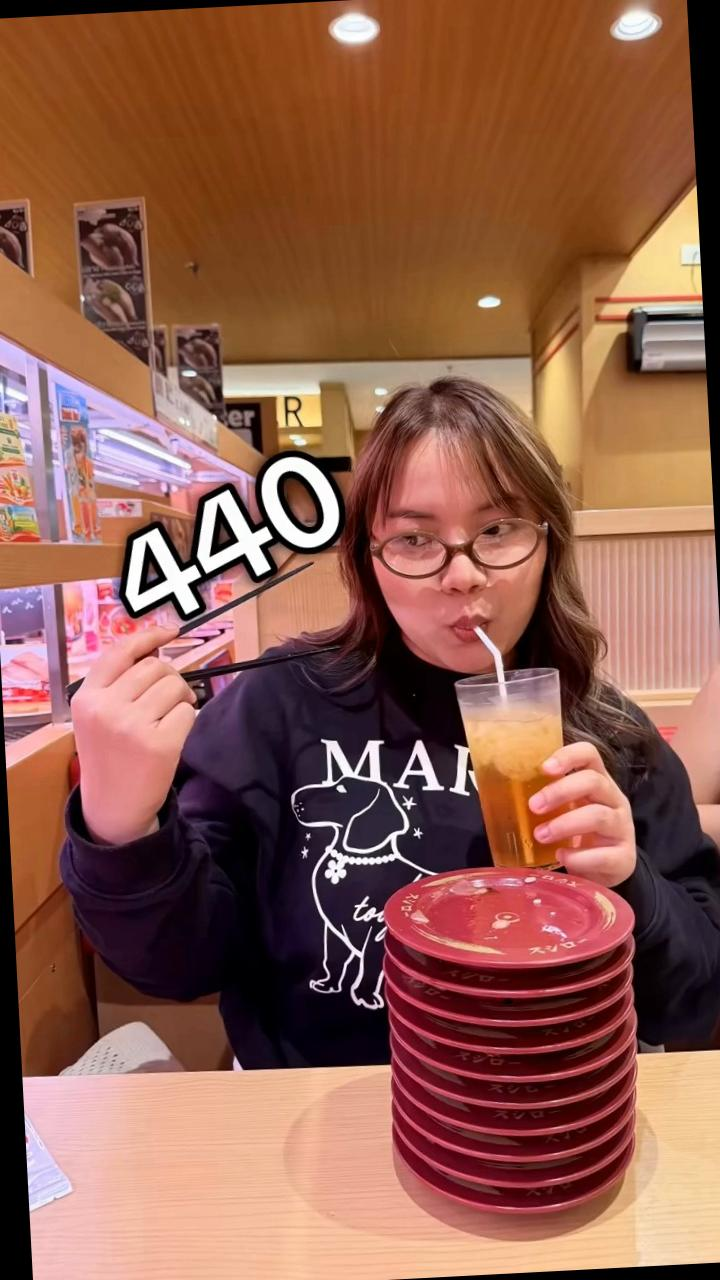Janred: (386, 879, 642, 957), (417, 954, 604, 1002), (448, 1047, 616, 1086), (438, 1020, 610, 1054), (452, 1080, 618, 1114), (470, 1182, 624, 1216), (430, 996, 604, 1026), (460, 1110, 622, 1141), (465, 1140, 608, 1166), (467, 1166, 625, 1187)
